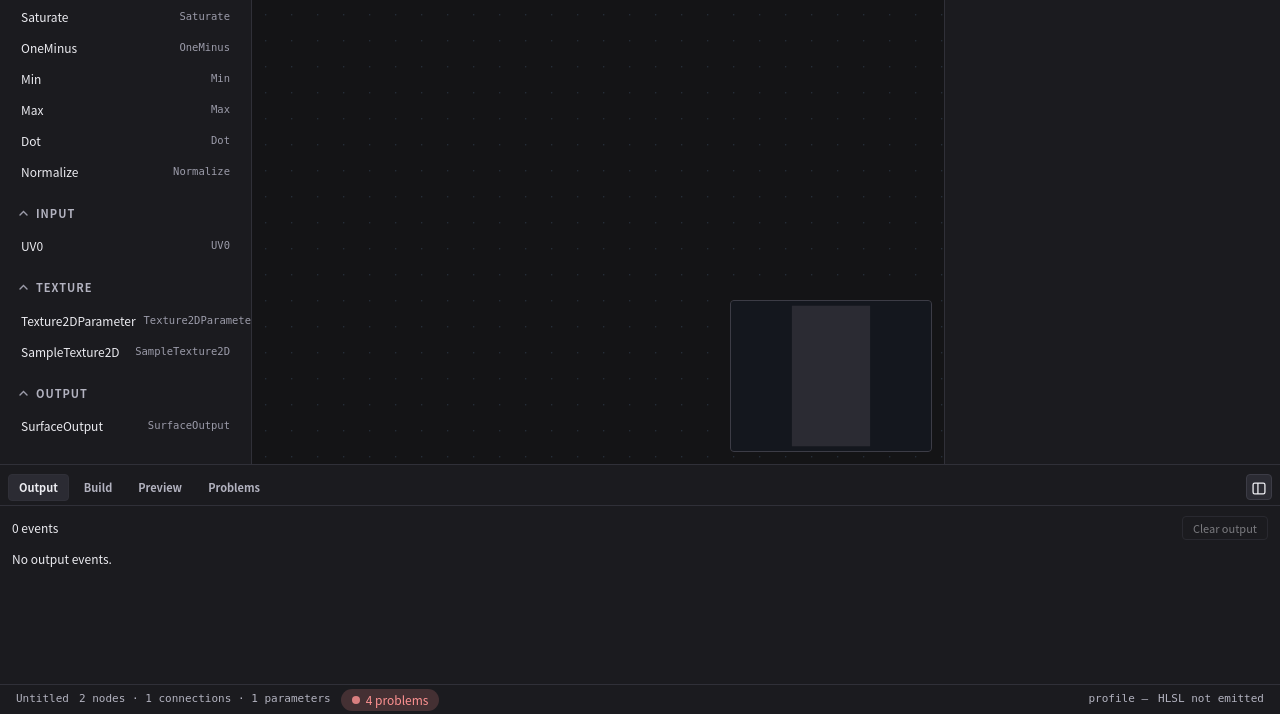
the Bottom Panel shell › collapses to a strip and reopens, keeping the active view
(page scrolled)
Click the tab "Preview" at [160, 487], box [127,474,193,500]
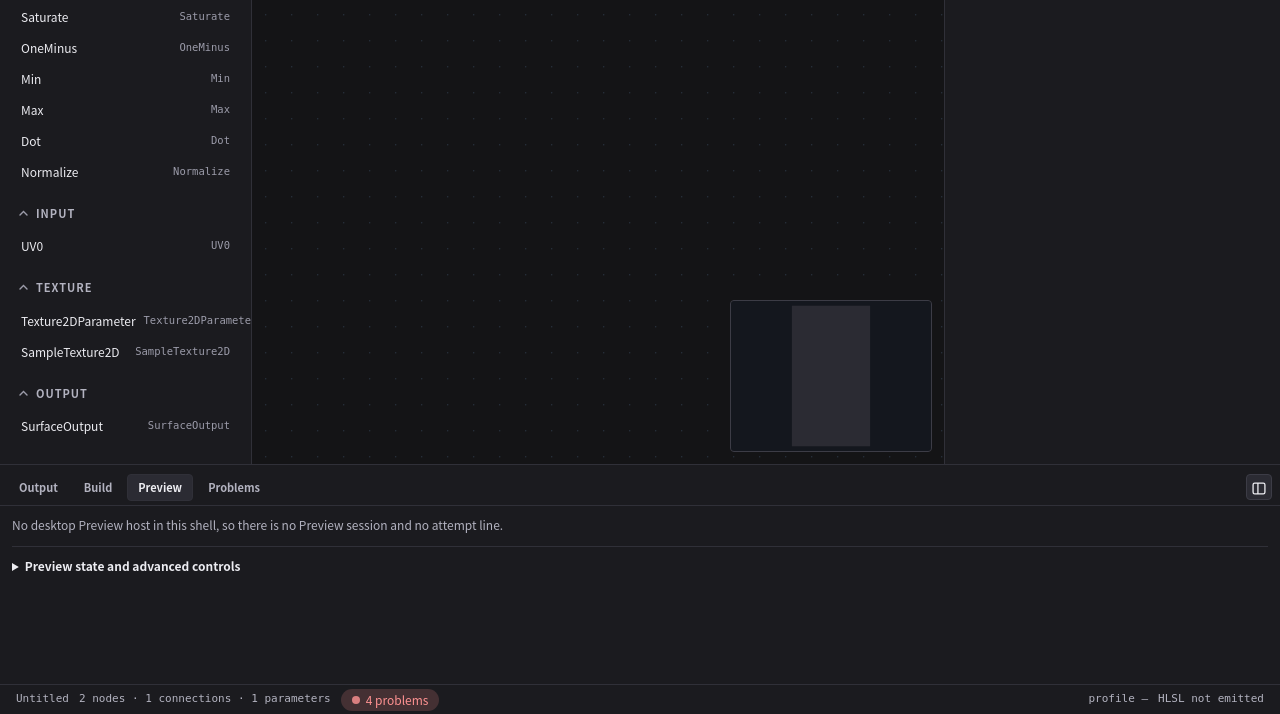
Click the button named "Collapse the bottom panel" at [1259, 487], box [1246,474,1272,500]
(page scrolled)
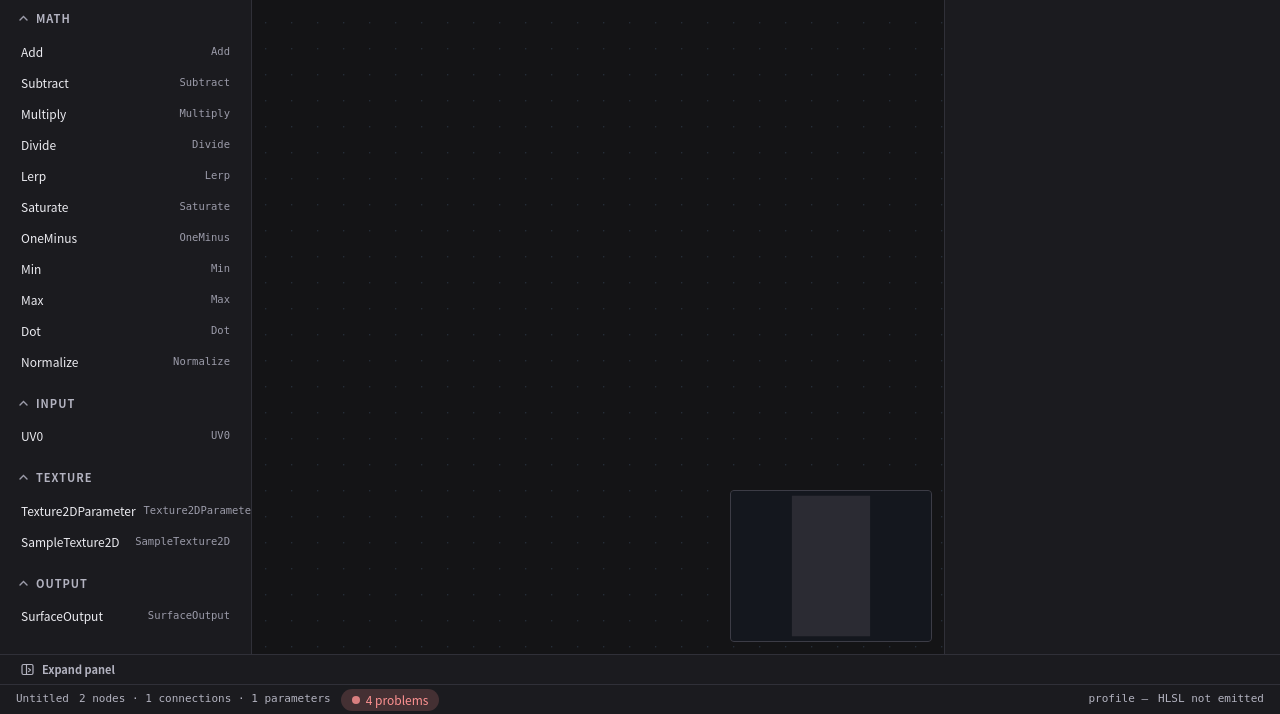
Click the button with aria-label "Expand the bottom panel" at [68, 670], box [10,656,126,683]
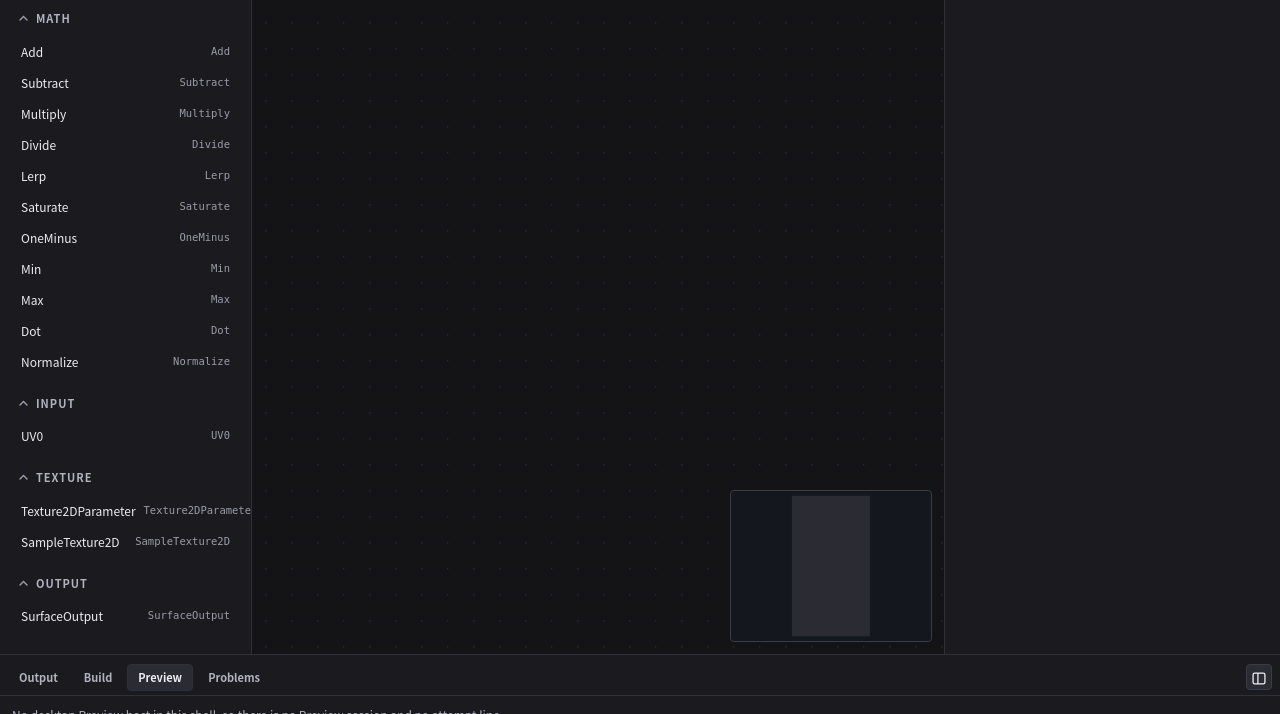
Now the button named "Collapse the bottom panel" is shown, box [1246,664,1272,690]
